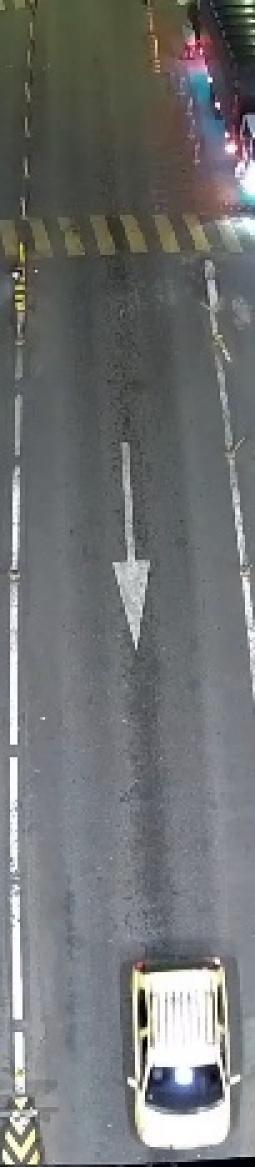car: (117, 950, 243, 1158)
